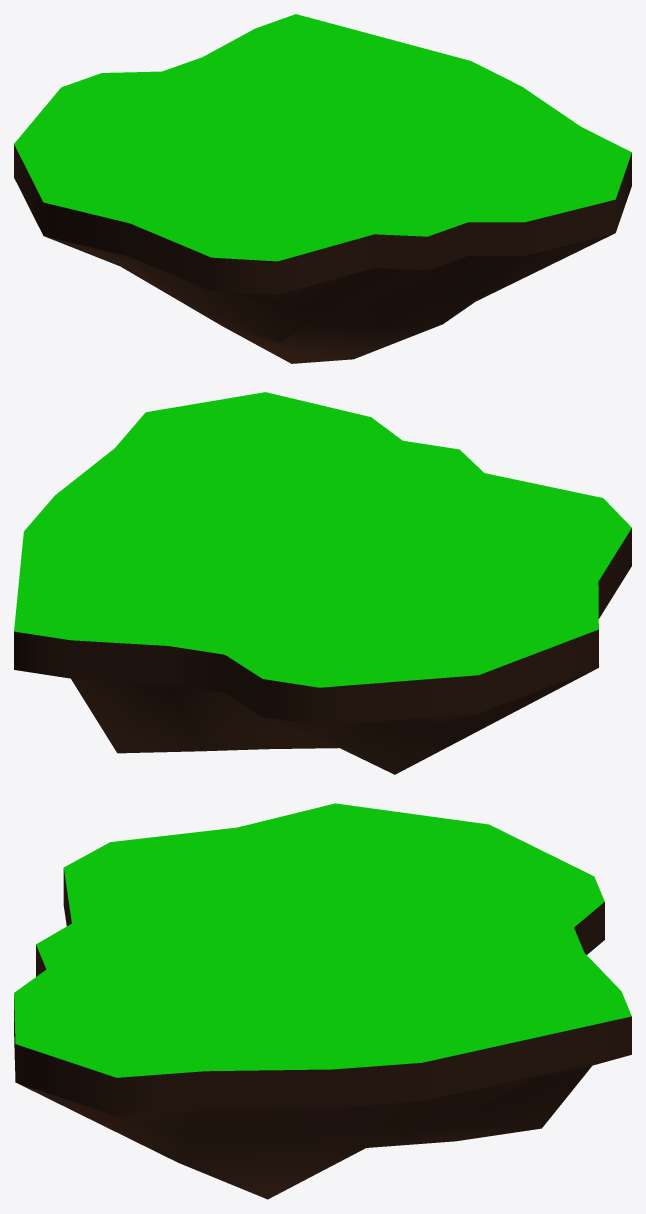
File: Small Floating Island.fbx
3 renders of one model, top to bottom at view 1: azimuth 30°, elevation 25°; view 2: azimuth 150°, elevation 25°; view 3: azimuth 270°, elevation 25°, orthographic. The views are drawn at different scales.
Visible parts, largest first — view 1: Box003; view 2: Box003; view 3: Box003.
Boxes of the visible parts, left/top/right/bottom form: Box003: left=14, top=14, right=631, bottom=363; Box003: left=14, top=392, right=631, bottom=774; Box003: left=14, top=803, right=631, bottom=1199.
Size of the model in its own units: 1075 by 406 by 1023.
